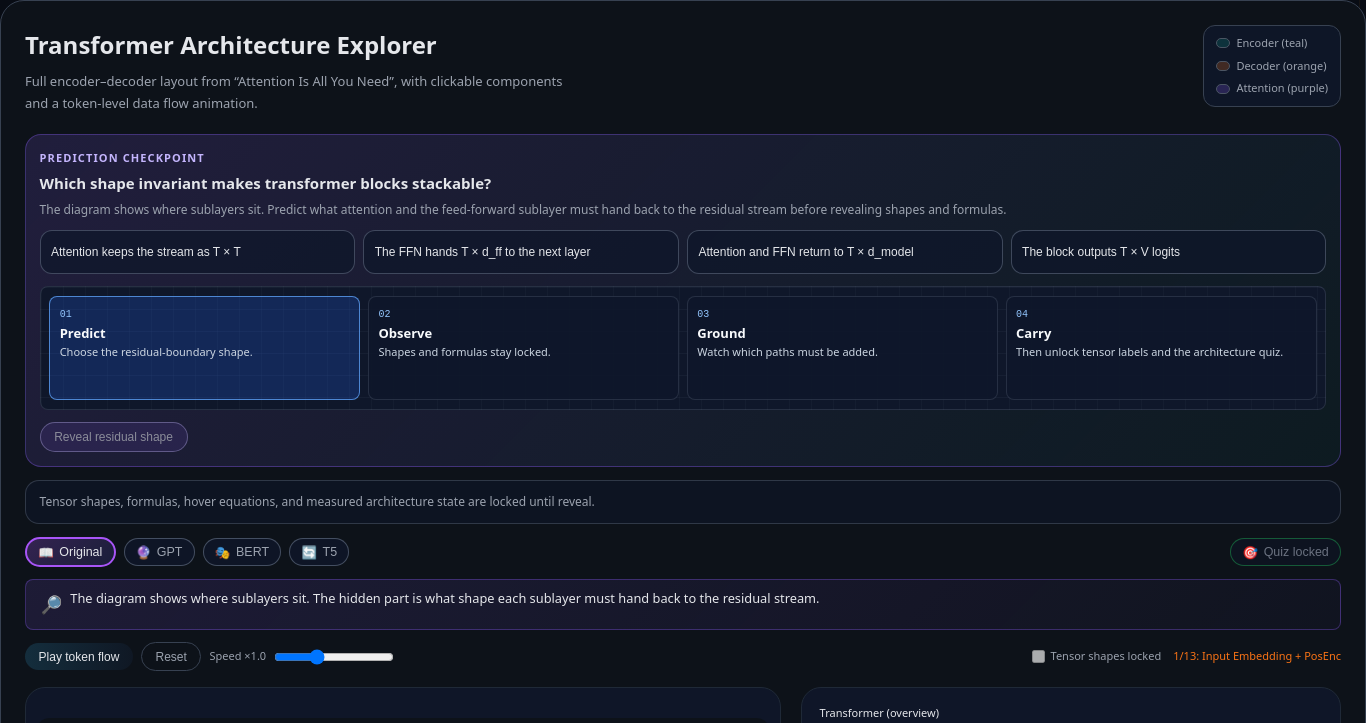
TransformerArchitectureViz residual-shape reveal › reveals the same residual answer after a wrong prediction
Step 1. Click the button "The FFN hands T × d_ff to the next layer" → point(521, 252), box [363, 230, 679, 274]
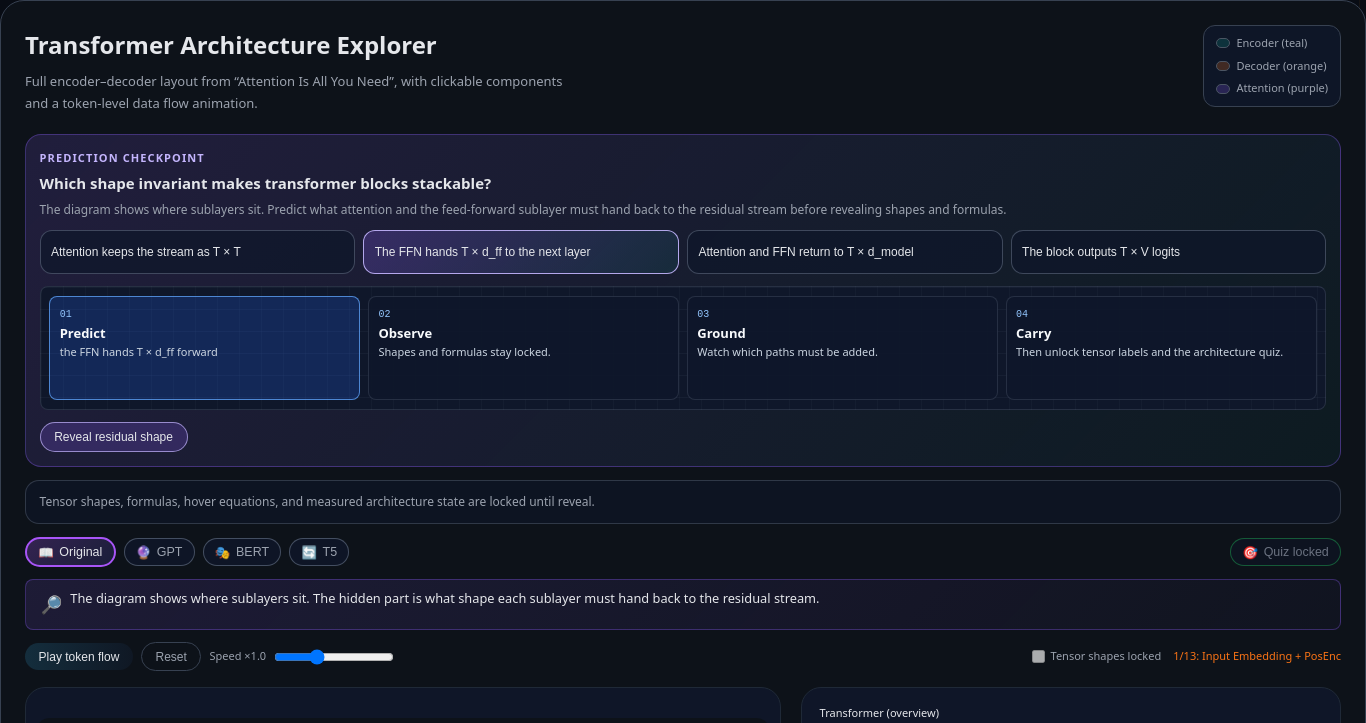
Step 2. Click the button "Reveal residual shape" → point(114, 437), box [40, 422, 188, 452]
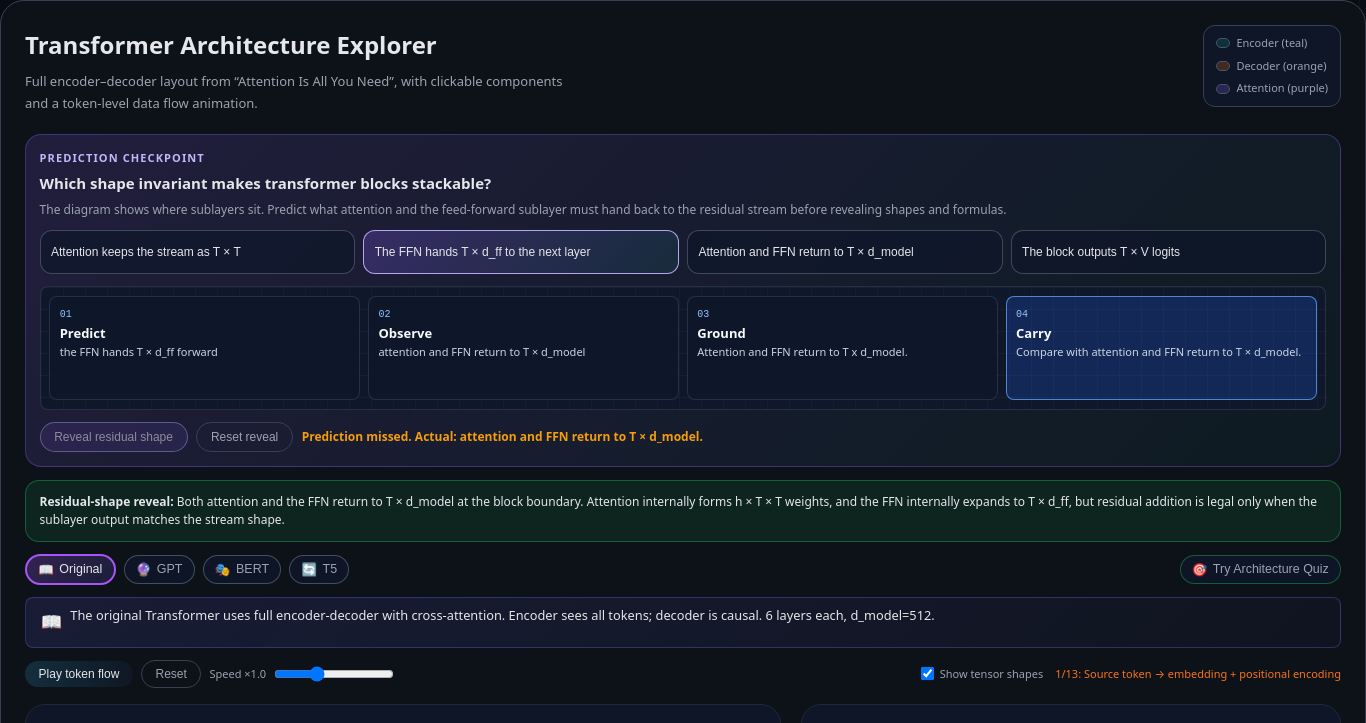
Check: the text "Prediction missed. Actual: attention and FFN return to T × d_model." is shown, box [302, 427, 703, 447]
